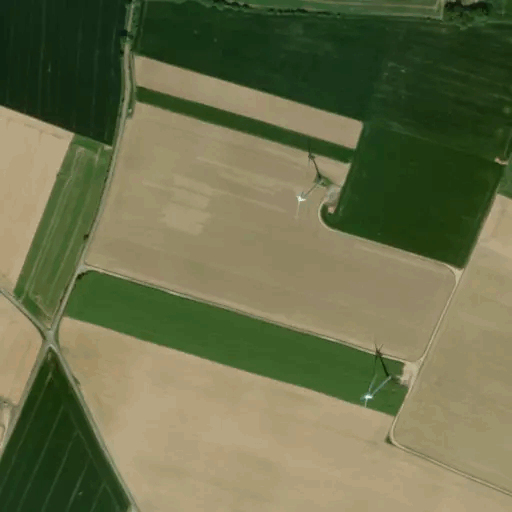wt: (286, 133, 340, 225), (356, 338, 412, 413)
